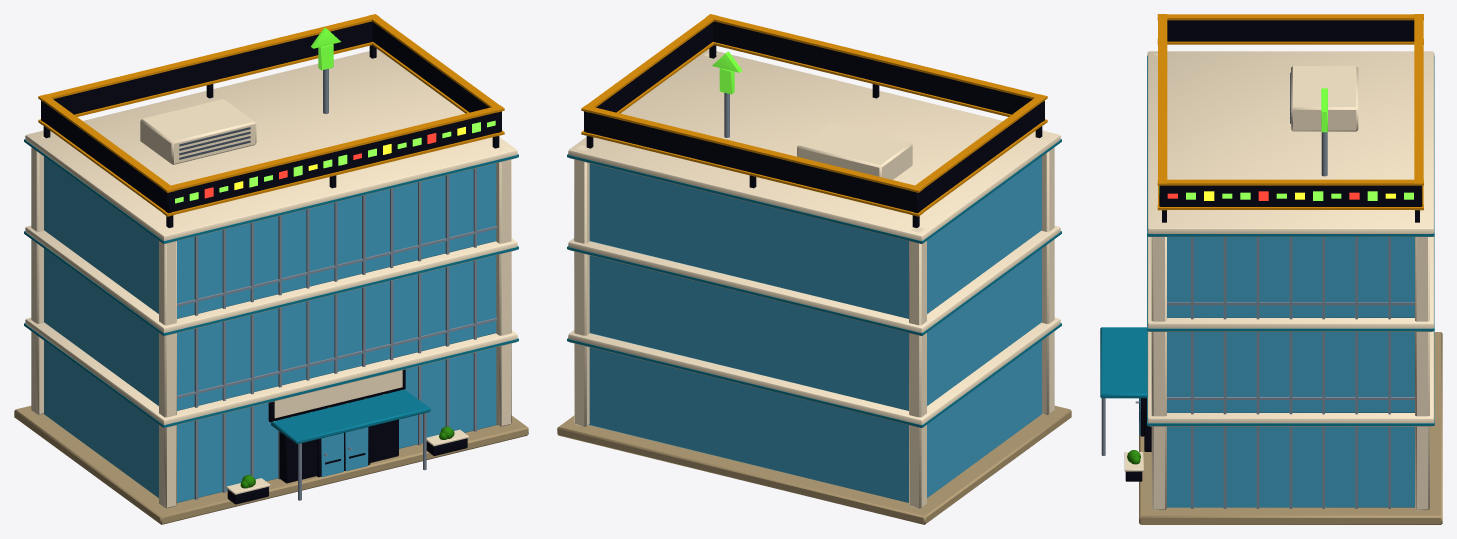
Rendered from TradingFloor.fbx.
The picture shows the model from 3 angles, left to right: view 1: azimuth 30°, elevation 25°; view 2: azimuth 150°, elevation 25°; view 3: azimuth 270°, elevation 25°; orthographic projection. The views are drawn at different scales.
Parts seen in each view (by area): view 1: TradingFloor; view 2: TradingFloor; view 3: TradingFloor.
Boxes of the visible parts, <box> form: TradingFloor: <box>14,14,528,524</box>; TradingFloor: <box>557,14,1071,524</box>; TradingFloor: <box>1100,14,1442,524</box>.
Size of the model in its own units: 26 by 24.88 by 20.3.
